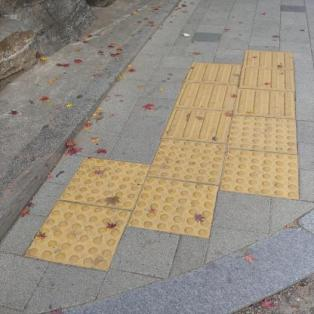Podoctatil: (19, 45, 306, 277)
